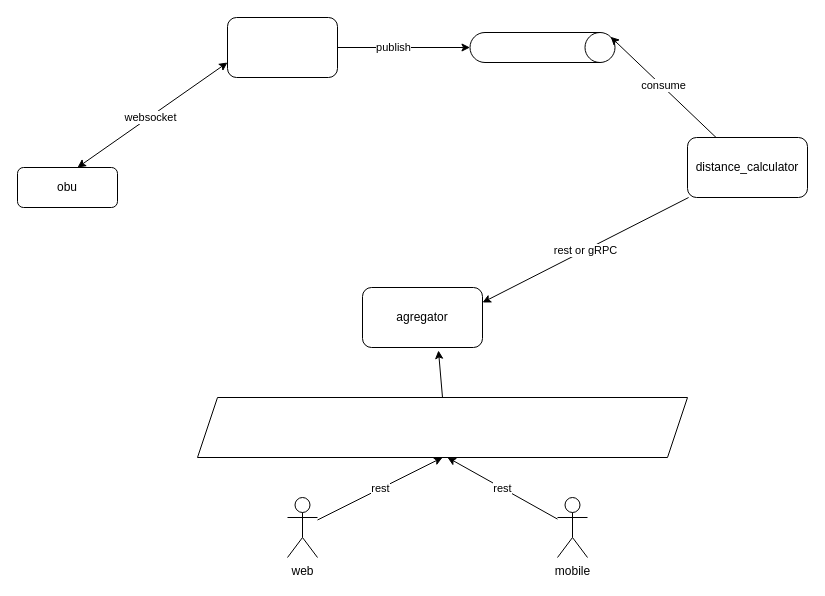
Some shapes in this 825 by 596 pixel diagram are drawn without their labels. Here are the shapes that lost their labels. From the top down, the box of each, then its label:
(226, 16, 338, 78): data_receiver
(469, 32, 615, 62): kafka
(196, 396, 688, 458): gateway
